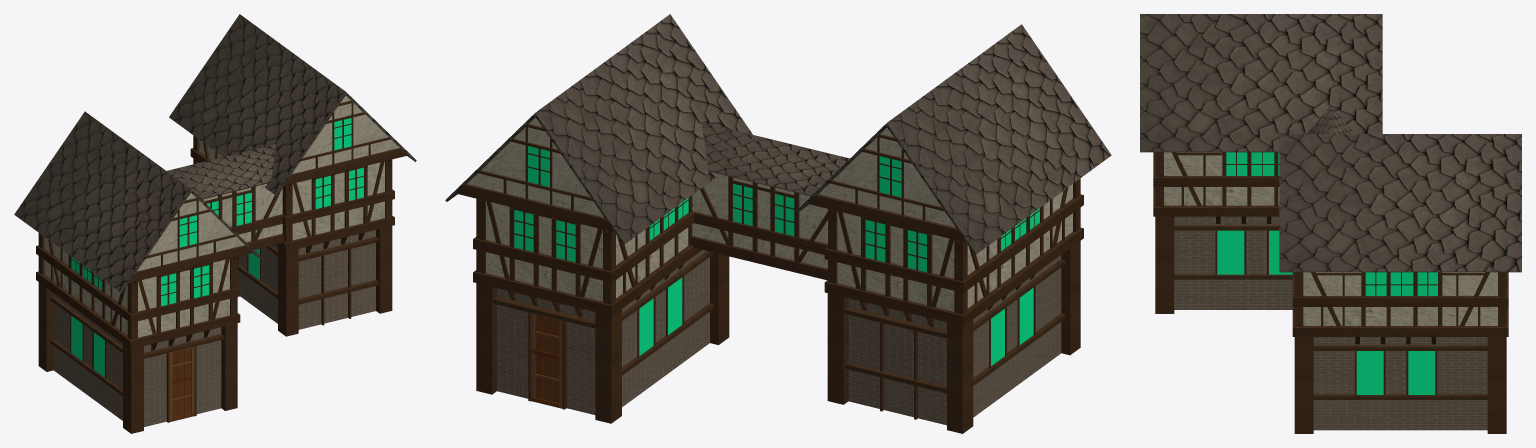
3 renders of one model, left to right at view 1: azimuth 30°, elevation 25°; view 2: azimuth 150°, elevation 25°; view 3: azimuth 270°, elevation 25°, orthographic. The views are drawn at different scales.
Visible parts, largest first — view 1: 집1_3; view 2: 집1_3; view 3: 집1_3.
Boxes of the visible parts, x1,y1,x2,y2 form: 집1_3: [14, 14, 416, 433]; 집1_3: [445, 14, 1111, 433]; 집1_3: [1140, 14, 1521, 433].
Size of the model in its own units: 270 by 171 by 219.
